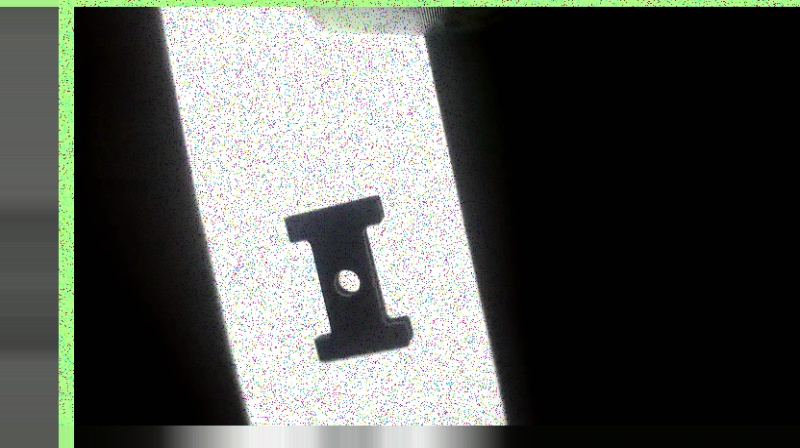O002: (281, 190, 416, 363)
